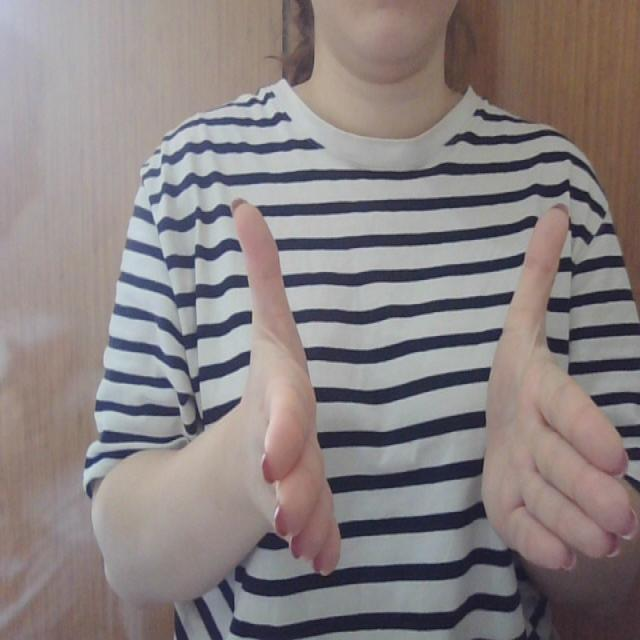Nasil: (220, 198, 640, 592)
